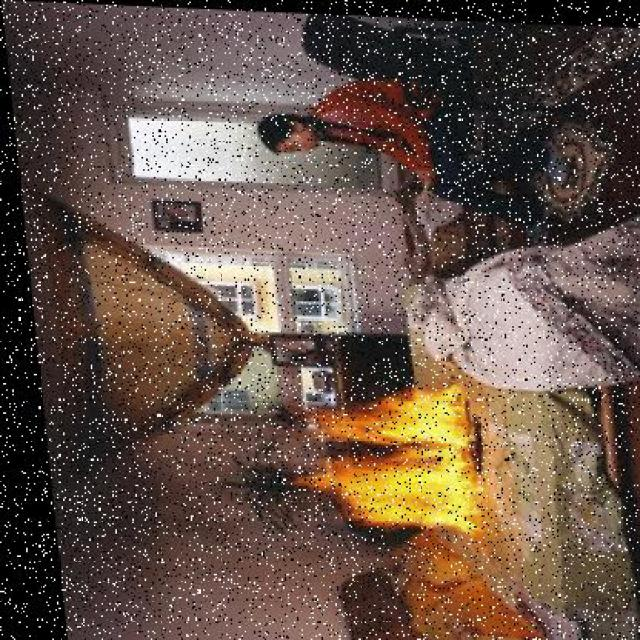fire: (282, 373, 468, 547)
